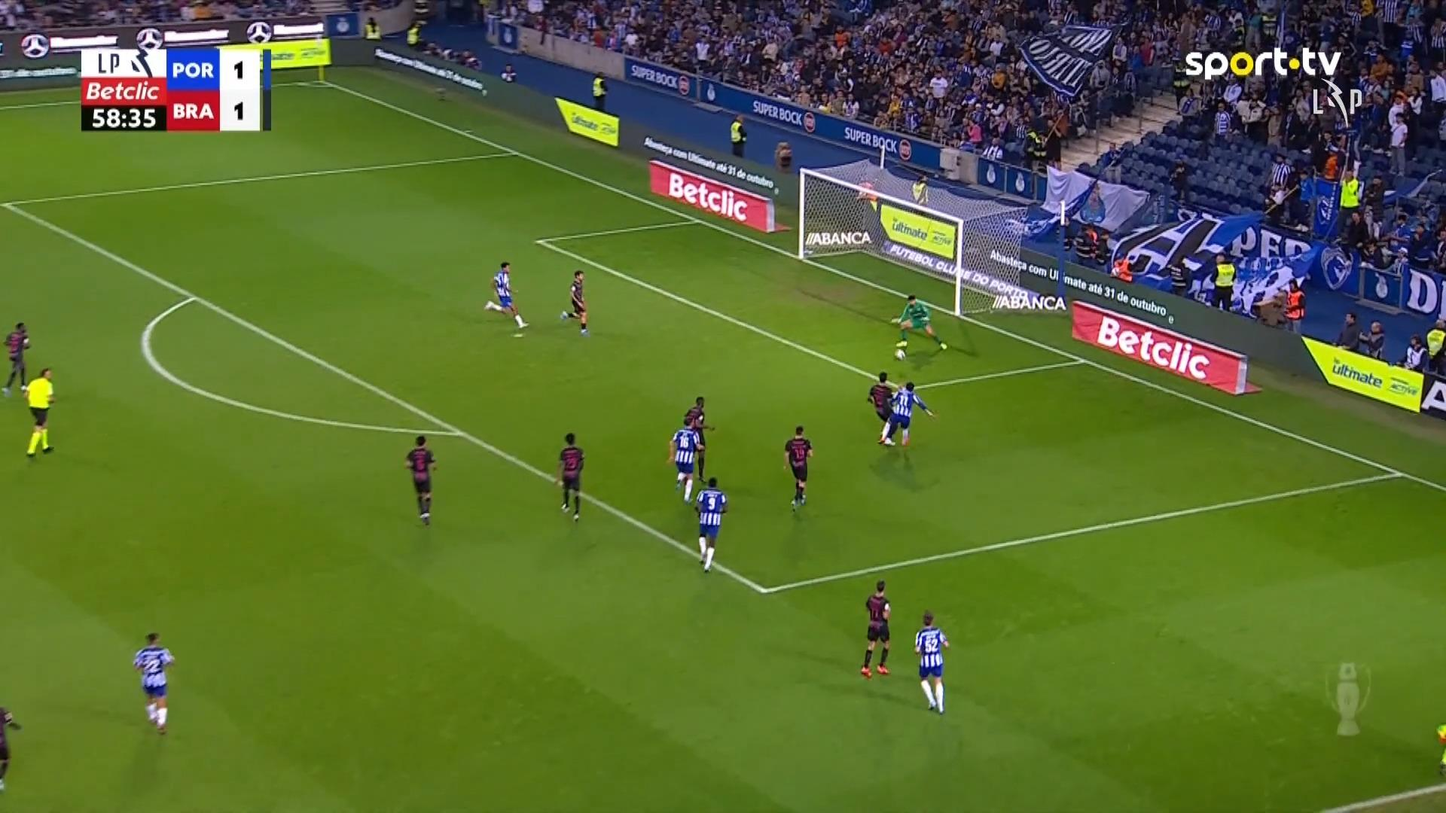ball: (1287, 57, 1300, 69), (894, 349, 905, 360)
goalkeeper: (889, 292, 947, 360)
player: (133, 631, 175, 734), (913, 610, 950, 713), (878, 380, 935, 446), (667, 415, 705, 503), (694, 477, 728, 572), (859, 579, 891, 677), (484, 260, 529, 329), (404, 434, 437, 525), (682, 394, 714, 481), (782, 425, 813, 509), (867, 370, 901, 444), (557, 432, 584, 521), (1, 321, 31, 393), (560, 269, 590, 336), (0, 706, 21, 790), (1209, 251, 1237, 310)
referee: (21, 367, 56, 456)
